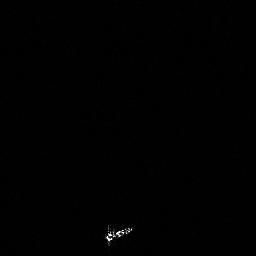ship: (101, 221, 136, 248)
